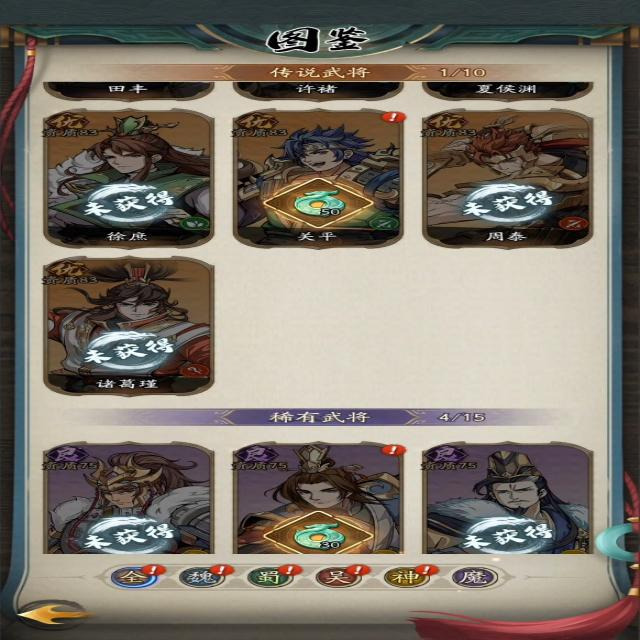hint-reddot: (377, 442, 413, 456), (272, 562, 308, 576), (341, 562, 376, 576), (136, 563, 170, 576), (207, 563, 240, 575), (378, 109, 407, 122), (417, 563, 442, 577)
navigation-myHeroes: (226, 104, 411, 253), (228, 434, 406, 556)
operation-back: (15, 595, 98, 634)
operation-camp: (308, 562, 368, 591), (375, 561, 435, 590), (173, 563, 230, 592), (243, 562, 302, 590), (109, 564, 164, 592), (445, 562, 498, 590)
